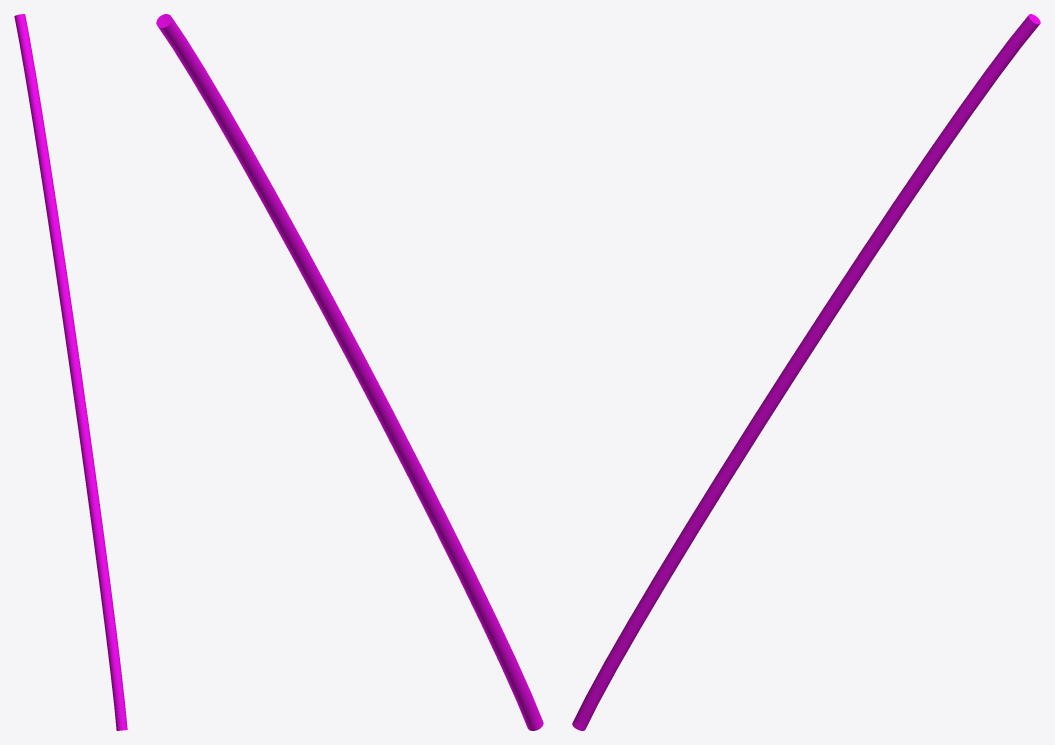
Rendered from Event_134295681_electron_0.fbx.
The picture shows the model from 3 angles, left to right: view 1: azimuth 30°, elevation 25°; view 2: azimuth 150°, elevation 25°; view 3: azimuth 270°, elevation 25°; orthographic projection. The views are drawn at different scales.
Visible parts, largest first — view 1: Model; view 2: Model; view 3: Model.
Part boxes in pixels (bbox=[...]): Model: bbox=[14, 14, 127, 730]; Model: bbox=[156, 14, 543, 730]; Model: bbox=[572, 14, 1040, 730].
Size of the model in its own units: 0.3333 by 2.29 by 1.28.
